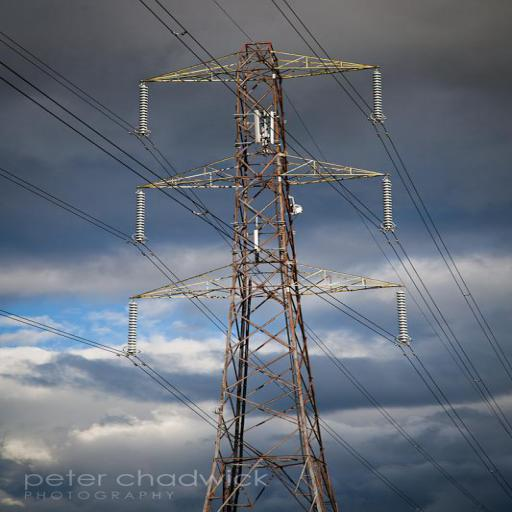ss_3: (128, 43, 410, 511)
